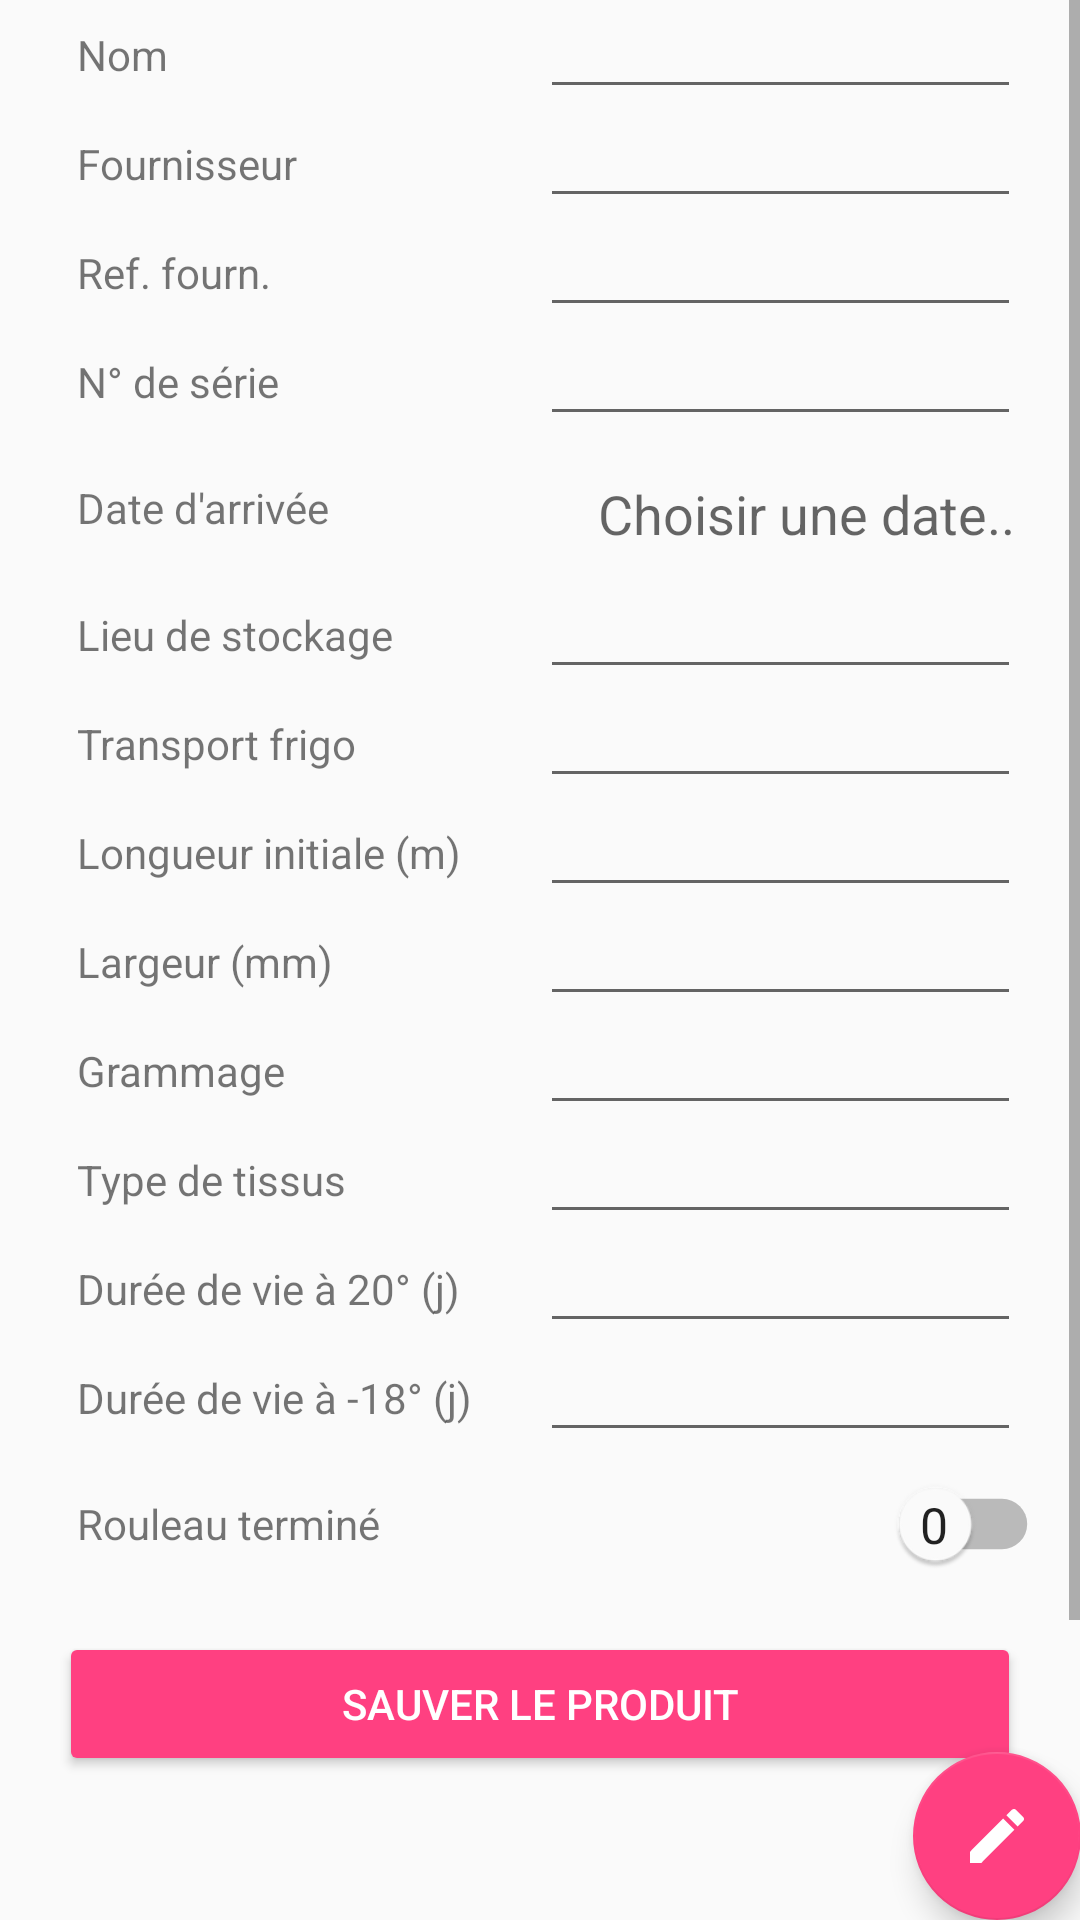

Named icons in this screenshot (1080 × 1920) and their centers, (x,y):
mode edit: (996,1836)
